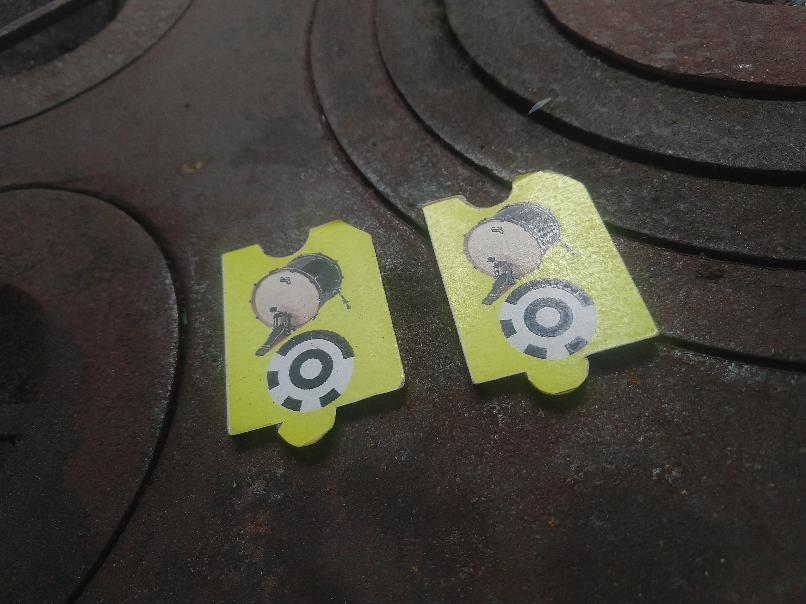bumbo: (421, 169, 661, 399), (219, 219, 407, 449)
